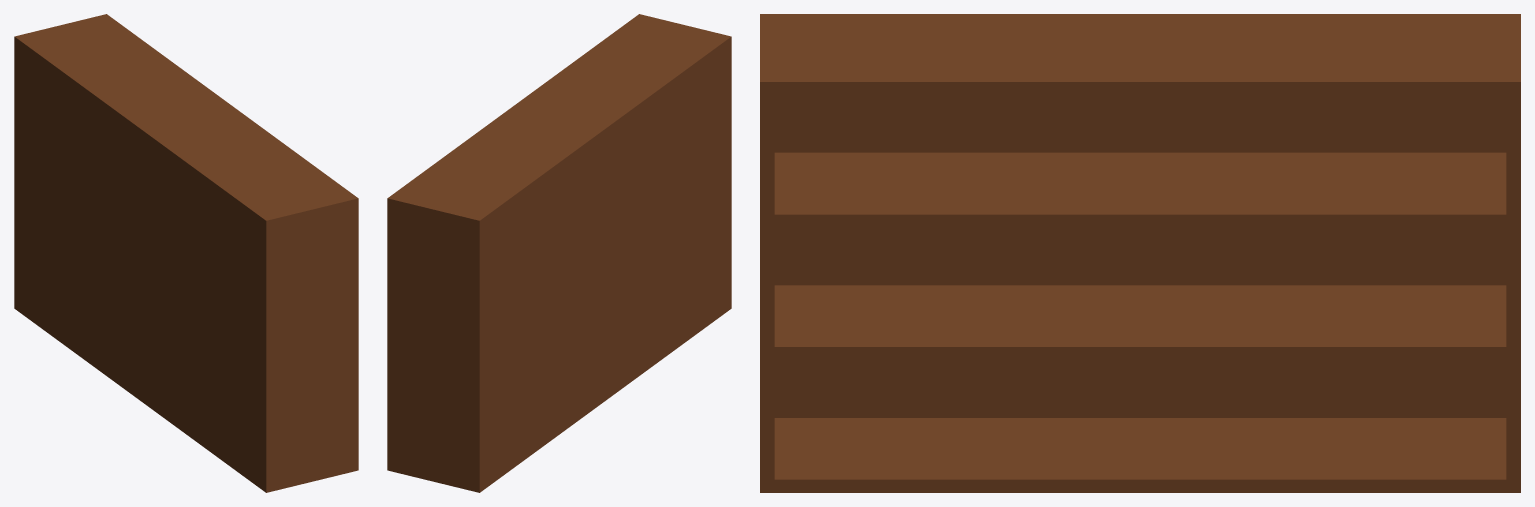
Rendered from Shelf.fbx.
3 views of the same model, side by side, from view 1: azimuth 30°, elevation 25°; view 2: azimuth 150°, elevation 25°; view 3: azimuth 270°, elevation 25° (orthographic). The views are drawn at different scales.
Visible parts, largest first — view 1: Group5, Group4; view 2: Group5, Group4; view 3: Group5, Group2, Group3, Group4, Group1.
Part boxes in pixels (left/top/right/bottom): Group5: left=14, top=14, right=358, bottom=492; Group4: left=28, top=17, right=353, bottom=214; Group5: left=387, top=14, right=731, bottom=492; Group4: left=392, top=17, right=717, bottom=214; Group5: left=760, top=14, right=1520, bottom=492; Group2: left=774, top=285, right=1506, bottom=360; Group3: left=774, top=152, right=1506, bottom=227; Group4: left=774, top=20, right=1506, bottom=95; Group1: left=774, top=418, right=1506, bottom=492.
Bounding box in the file's own units: 11 × 31 × 52.
